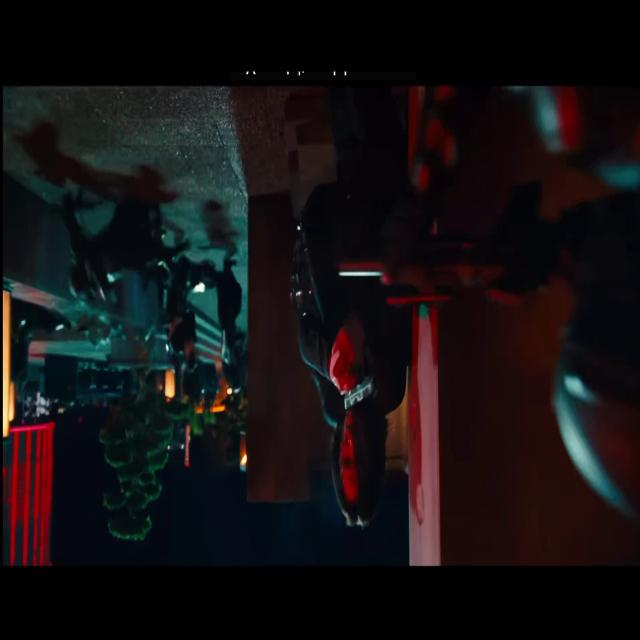weapons: (330, 312, 392, 432)
